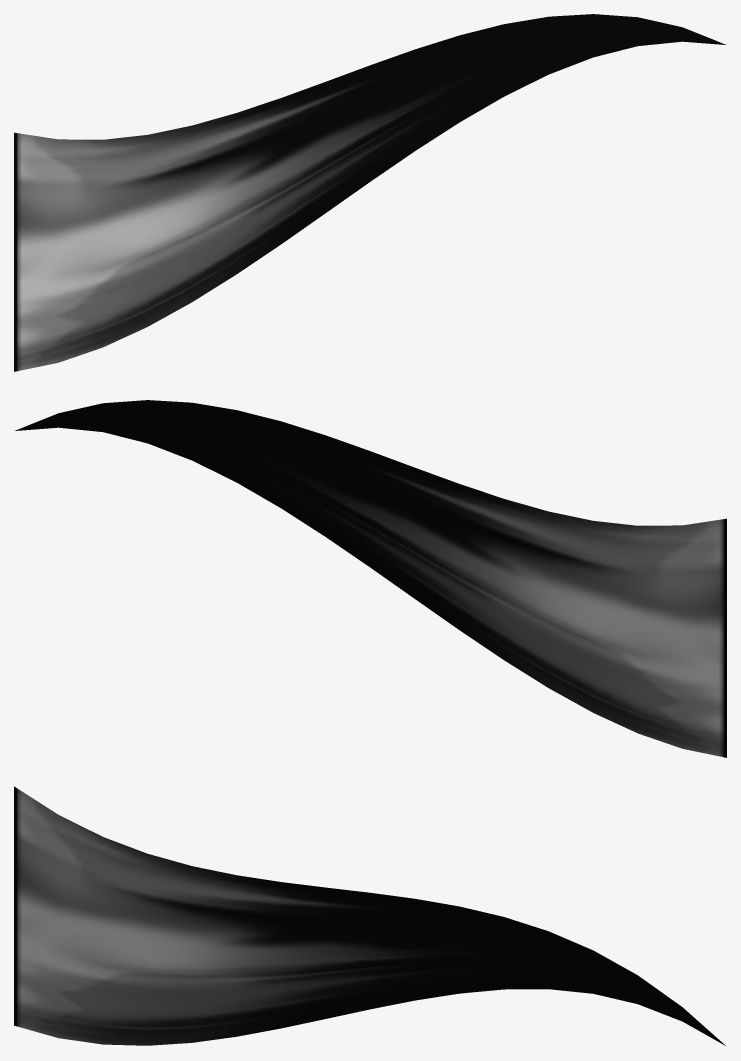
The model's file is piaodai_5.FBX.
3 renders of one model, top to bottom at view 1: azimuth 30°, elevation 25°; view 2: azimuth 150°, elevation 25°; view 3: azimuth 330°, elevation 25°, orthographic.
Visible parts, largest first — view 1: Plane001; view 2: Plane001; view 3: Plane001.
Part boxes in pixels (box(x1,y1,x2,y2)): Plane001: box(14, 14, 725, 371); Plane001: box(15, 400, 726, 757); Plane001: box(14, 786, 725, 1045).
Size of the model in its own units: 161 by 52.09 by 8.66e-06.
